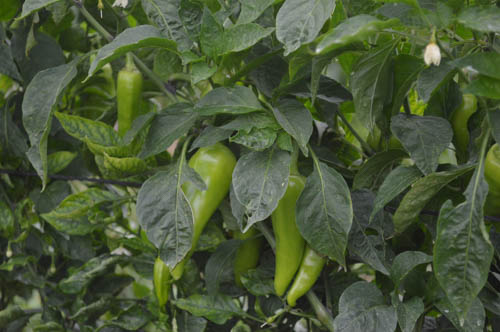ChiliPepper: (167, 148, 237, 285), (267, 175, 302, 305), (288, 242, 325, 315), (115, 65, 143, 149), (233, 222, 264, 289)
